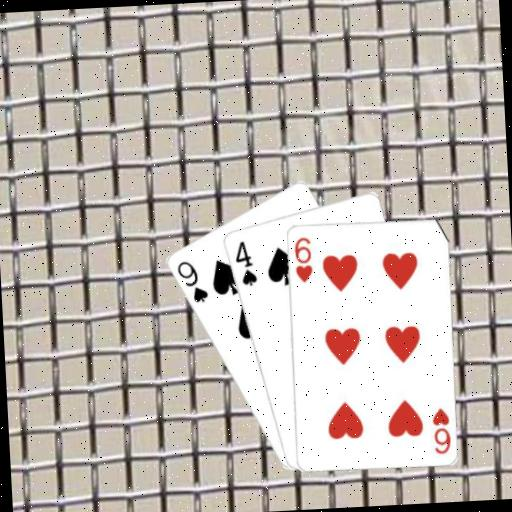4S: (231, 237, 260, 288)
6H: (290, 233, 314, 284), (429, 405, 453, 456)
9S: (173, 257, 210, 306)
